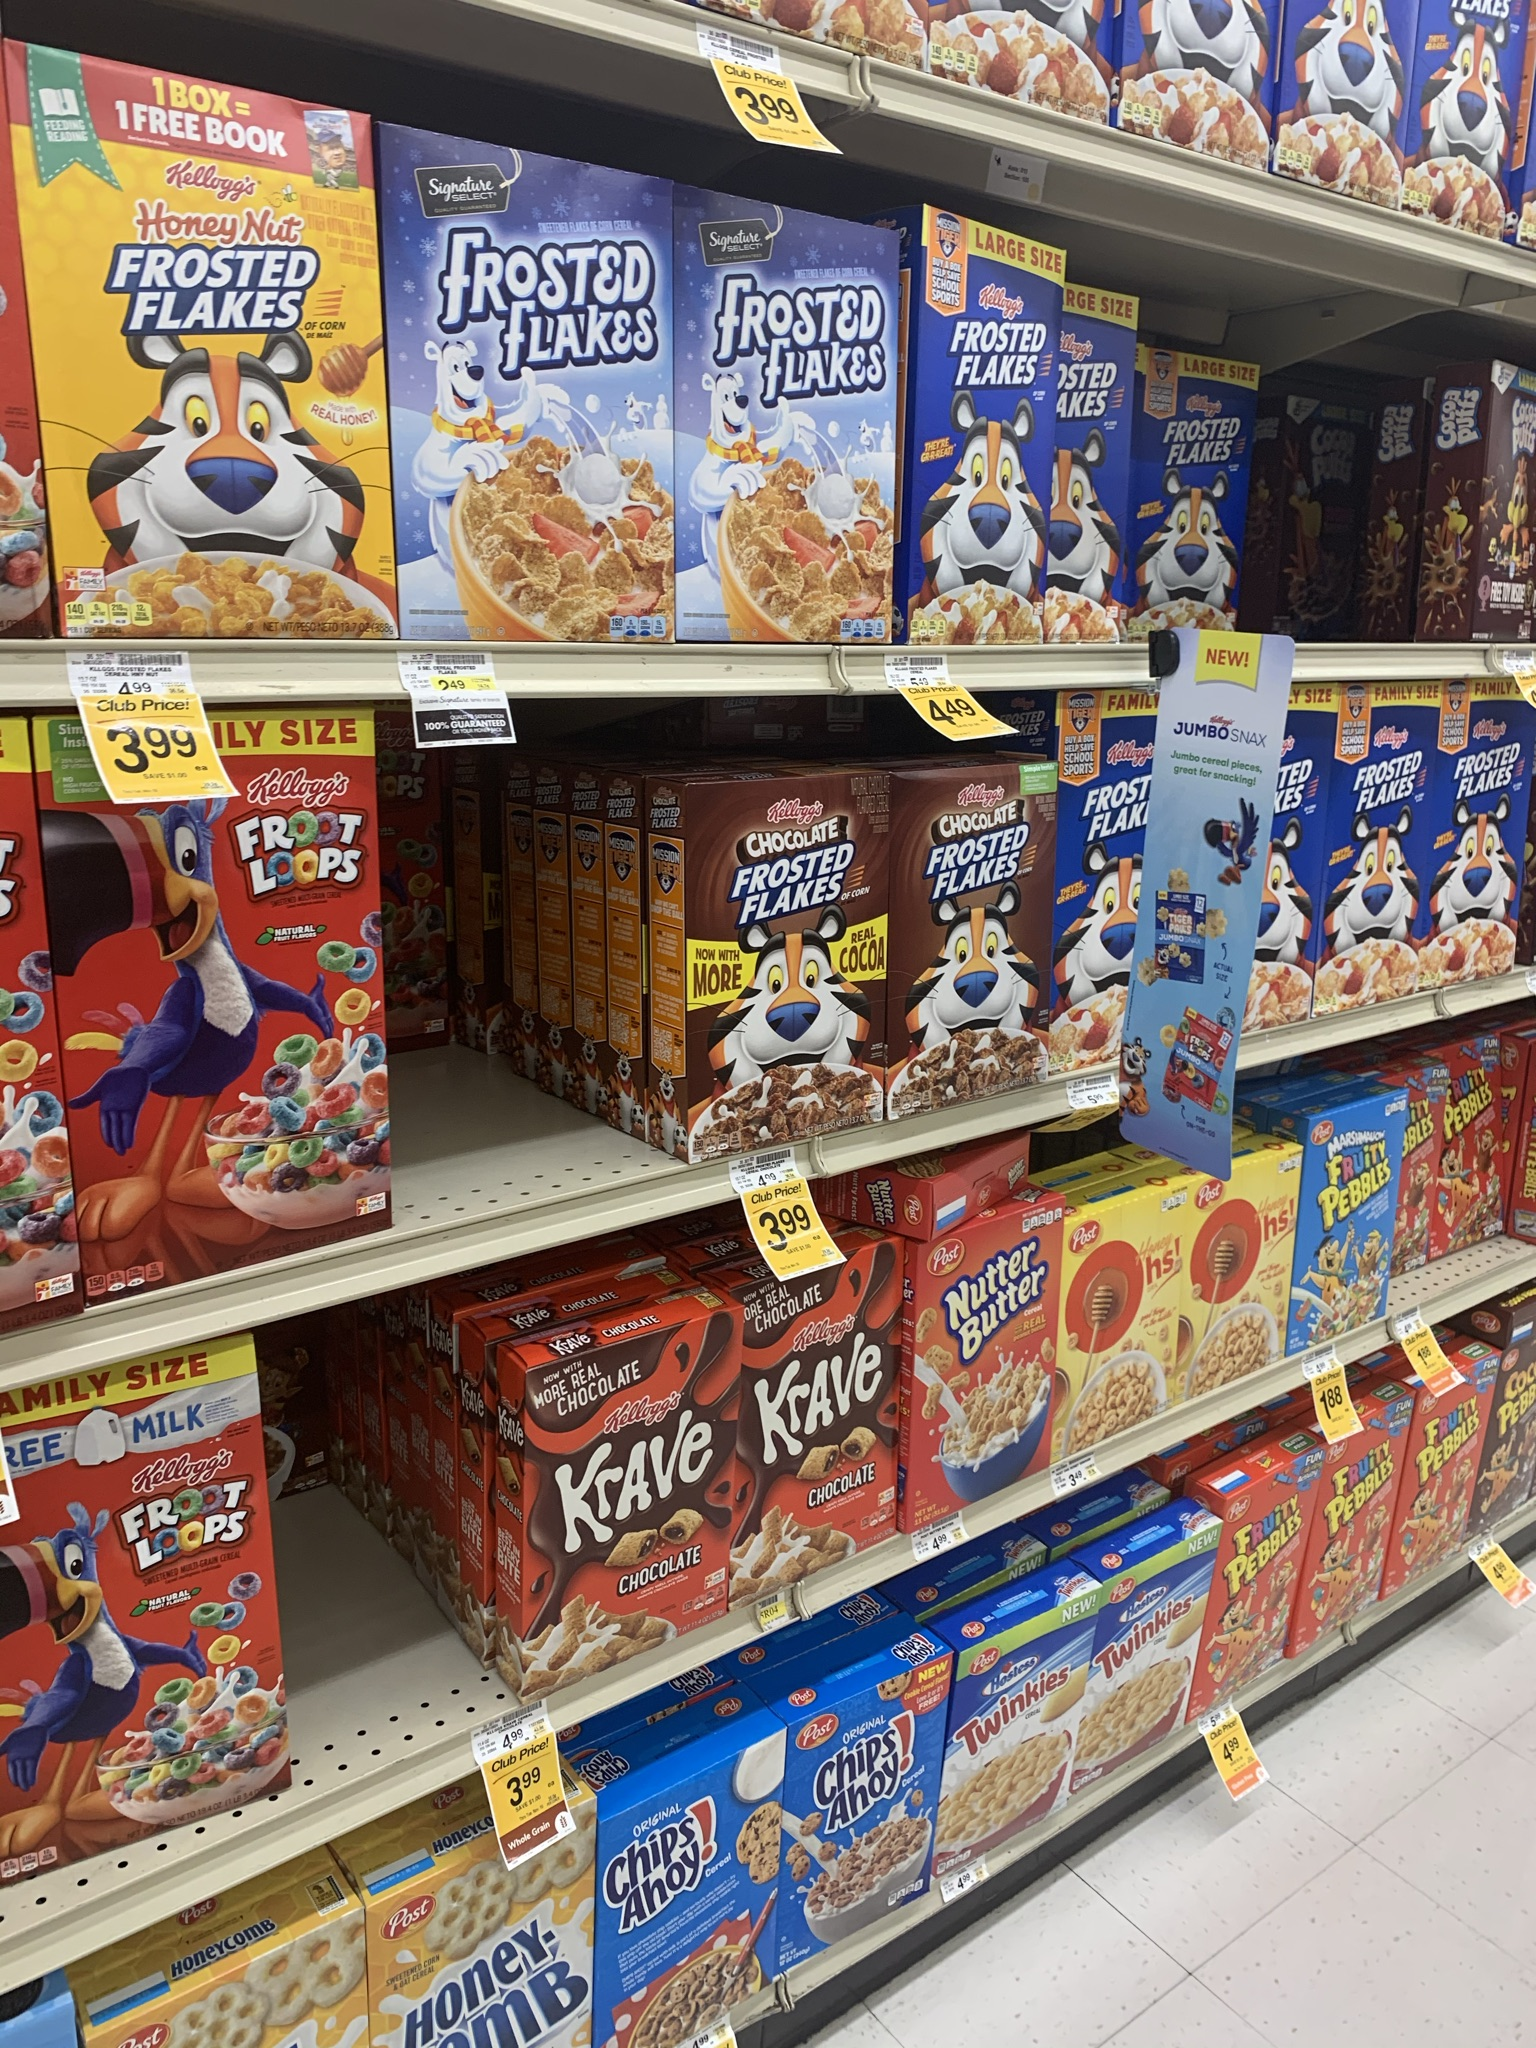cereal: (2, 39, 390, 634), (29, 722, 394, 1235), (376, 119, 694, 653), (684, 182, 892, 647), (674, 797, 876, 1140), (912, 210, 1054, 647), (616, 1734, 787, 2048), (1054, 700, 1197, 1061), (891, 776, 1049, 1097), (933, 1201, 1062, 1530), (1176, 1159, 1309, 1421), (792, 1716, 929, 1966), (1137, 347, 1246, 640), (1066, 1184, 1170, 1479), (1063, 285, 1146, 653), (944, 1637, 1065, 1874), (1331, 721, 1431, 1006), (1405, 13, 1526, 234), (1433, 726, 1530, 993), (1244, 734, 1313, 1034), (1286, 3, 1388, 205), (1096, 1574, 1197, 1774), (1317, 1119, 1397, 1347), (1399, 1374, 1478, 1596), (1213, 1498, 1299, 1701), (1312, 1435, 1384, 1659)
